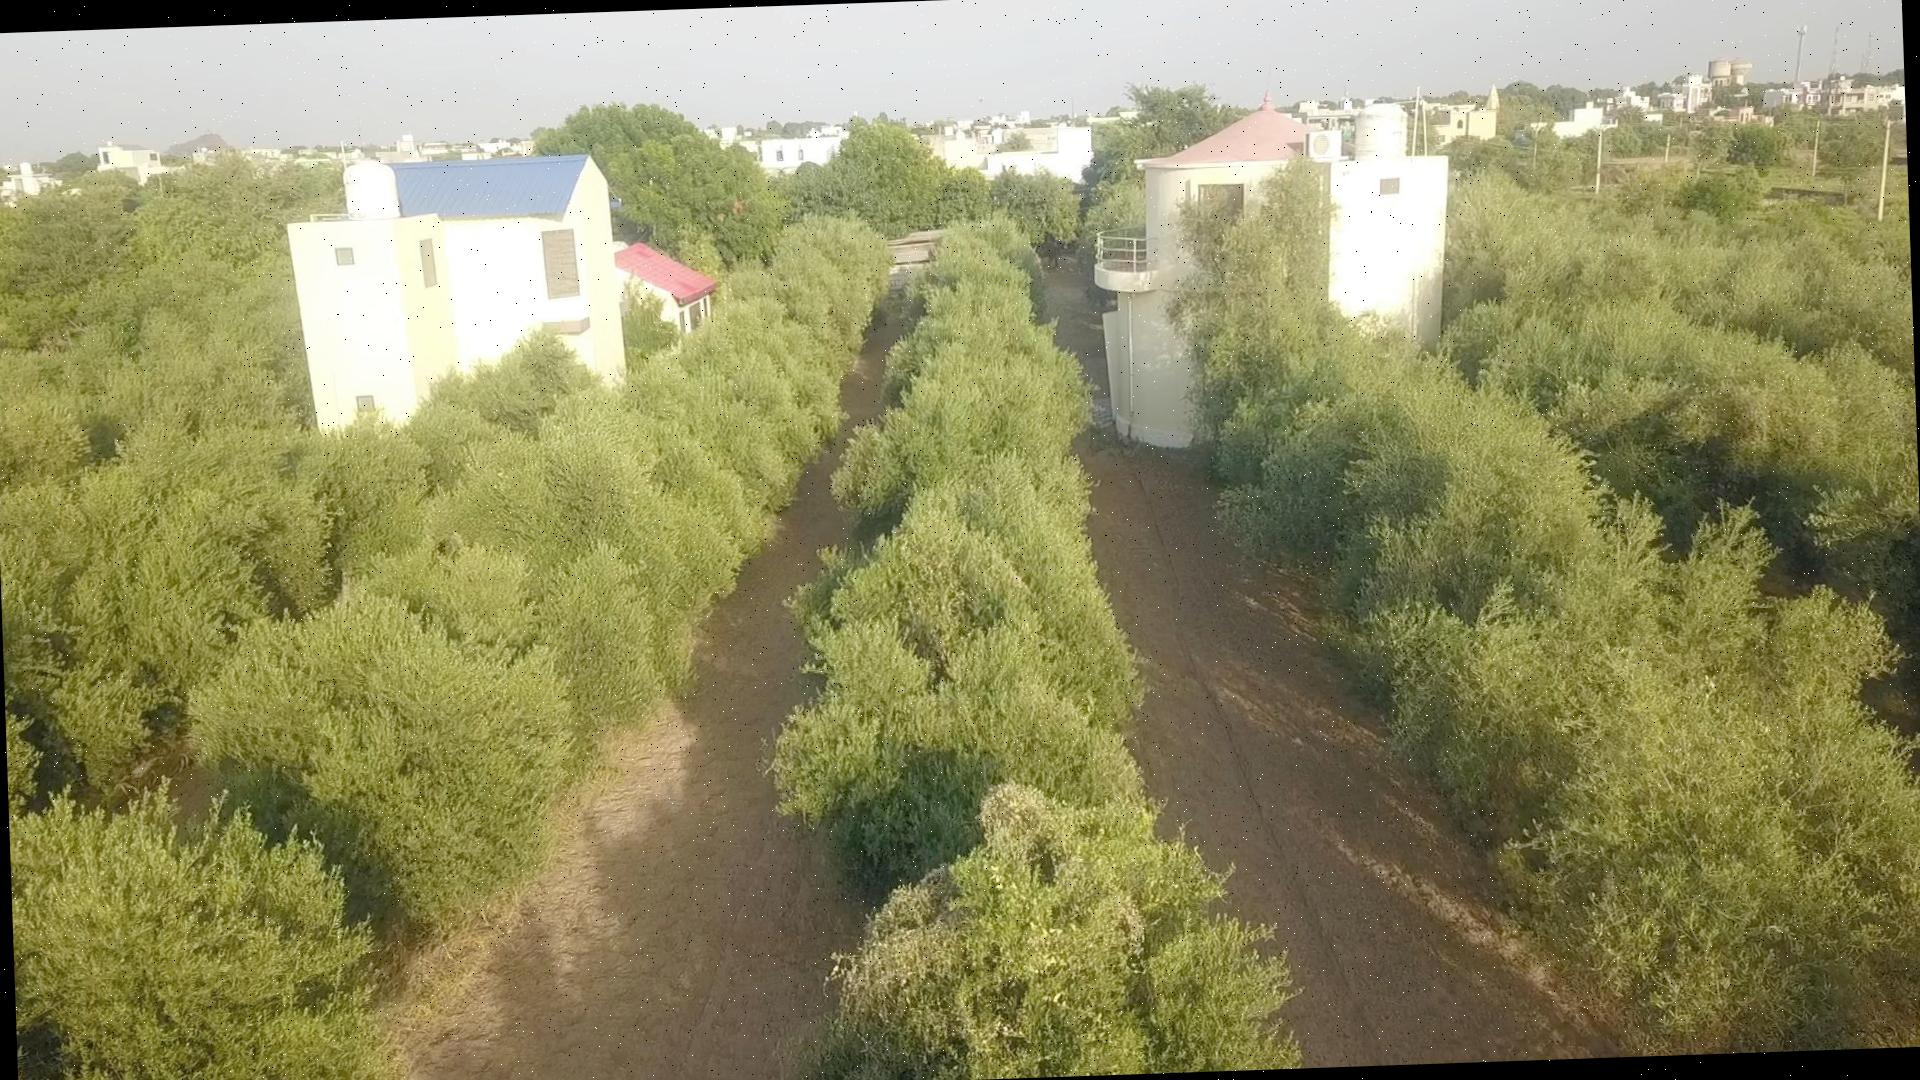canopy: (9, 216, 893, 1080), (1189, 175, 1920, 1046), (770, 218, 1299, 1080)
road: (1076, 440, 1622, 1067), (411, 452, 864, 1080)
